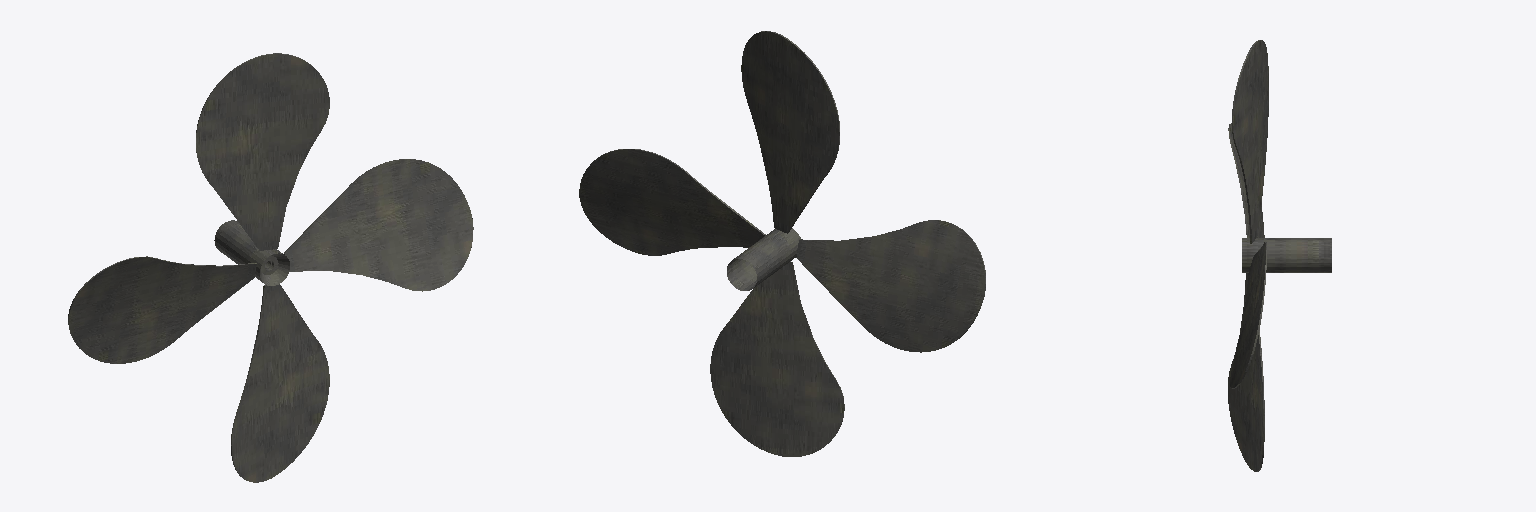
The picture shows the model from 3 angles: view 1: azimuth 30°, elevation 25°; view 2: azimuth 150°, elevation 25°; view 3: azimuth 270°, elevation 25°; orthographic projection.
Parts seen in each view (by area): view 1: Mesh7 Componente_3_3 nix_fan1 Model, Mesh3 Componente_3_1 nix_fan1 Model, Mesh9 Componente_3_4 nix_fan1 Model, Mesh5 Componente_3_2 nix_fan1 Model, Mesh1 Componente_2_1 nix_fan1 Model; view 2: Mesh9 Componente_3_4 nix_fan1 Model, Mesh5 Componente_3_2 nix_fan1 Model, Mesh3 Componente_3_1 nix_fan1 Model, Mesh7 Componente_3_3 nix_fan1 Model, Mesh1 Componente_2_1 nix_fan1 Model; view 3: Mesh7 Componente_3_3 nix_fan1 Model, Mesh5 Componente_3_2 nix_fan1 Model, Mesh1 Componente_2_1 nix_fan1 Model, Mesh3 Componente_3_1 nix_fan1 Model, Mesh9 Componente_3_4 nix_fan1 Model.
Boxes of the visible parts, <box> form: Mesh7 Componente_3_3 nix_fan1 Model: <box>196,53,329,250</box>; Mesh3 Componente_3_1 nix_fan1 Model: <box>284,159,473,291</box>; Mesh9 Componente_3_4 nix_fan1 Model: <box>68,256,256,363</box>; Mesh5 Componente_3_2 nix_fan1 Model: <box>231,284,329,482</box>; Mesh1 Componente_2_1 nix_fan1 Model: <box>214,220,289,285</box>; Mesh9 Componente_3_4 nix_fan1 Model: <box>796,220,985,352</box>; Mesh5 Componente_3_2 nix_fan1 Model: <box>710,261,844,456</box>; Mesh3 Componente_3_1 nix_fan1 Model: <box>579,149,765,255</box>; Mesh7 Componente_3_3 nix_fan1 Model: <box>741,31,839,233</box>; Mesh1 Componente_2_1 nix_fan1 Model: <box>727,228,800,290</box>; Mesh7 Componente_3_3 nix_fan1 Model: <box>1232,40,1268,243</box>; Mesh5 Componente_3_2 nix_fan1 Model: <box>1228,273,1264,471</box>; Mesh1 Componente_2_1 nix_fan1 Model: <box>1242,238,1331,272</box>; Mesh3 Componente_3_1 nix_fan1 Model: <box>1230,242,1266,388</box>; Mesh9 Componente_3_4 nix_fan1 Model: <box>1228,123,1264,237</box>.
Bounding box in the file's own units: 36.05 × 36.03 × 8.09.
1 materials, 1 textured.